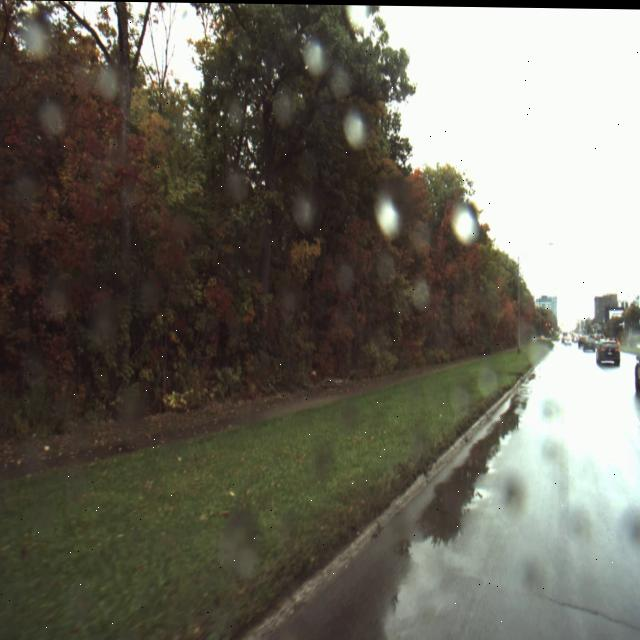car: (596, 338, 621, 366), (635, 342, 640, 400), (578, 334, 595, 350)
